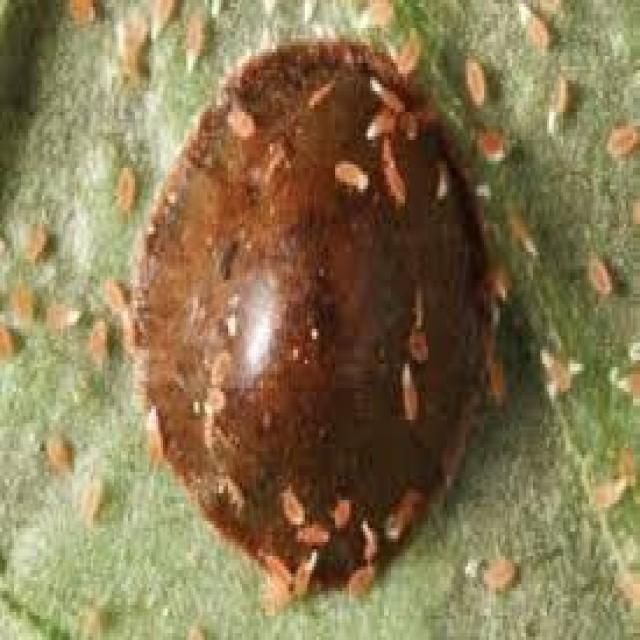BlackScale: (112, 38, 491, 605)
